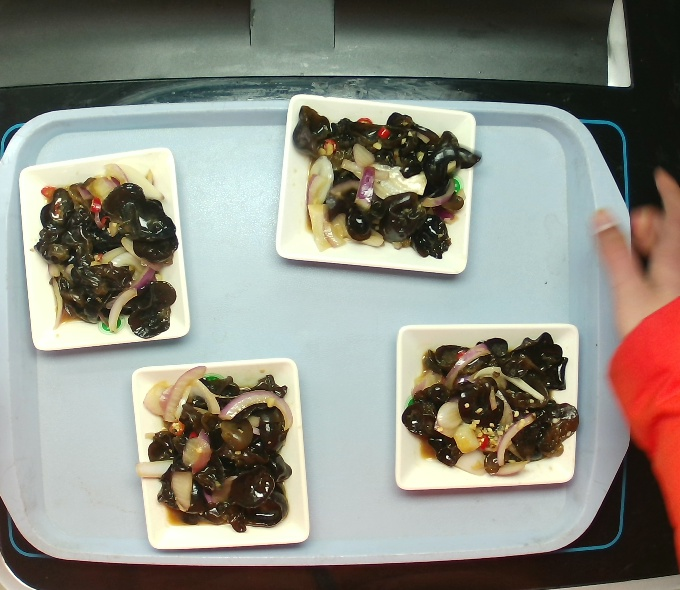wcq-LiangBanMuEr: (386, 329, 599, 478), (137, 365, 301, 537), (302, 107, 472, 266), (29, 166, 185, 335)
